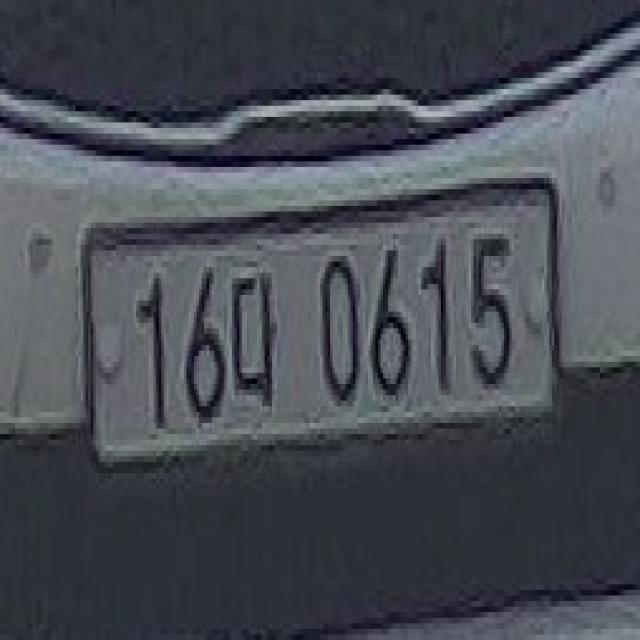0: (312, 239, 366, 423)
1: (128, 256, 176, 451), (416, 228, 464, 412)
5: (464, 222, 519, 412)
6: (179, 256, 229, 445), (365, 239, 416, 423)
da: (229, 256, 285, 429)
license_plate: (76, 161, 564, 501)
